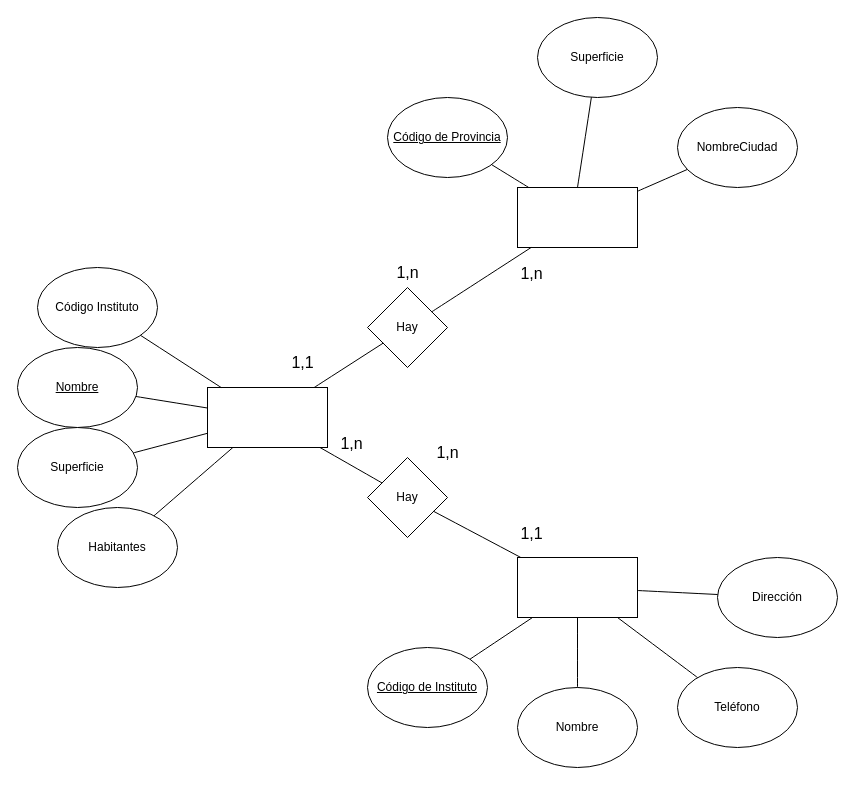
This 855x785 diagram has some shape labels left out. Each missing label, with the centre of its shape:
"Ciudad" belongs at pixel 267 417.
"Instituto" belongs at pixel 577 587.
"Provincia" belongs at pixel 577 217.
